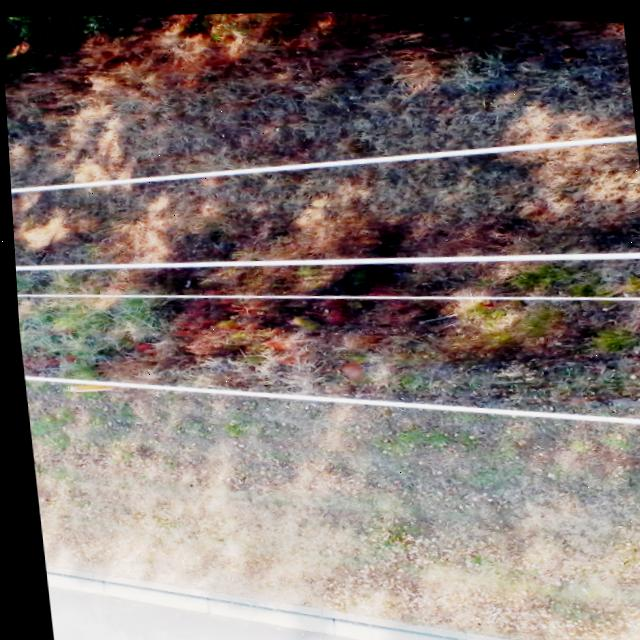wires: (9, 130, 635, 193), (20, 375, 640, 419), (12, 246, 640, 270), (14, 291, 640, 296)
